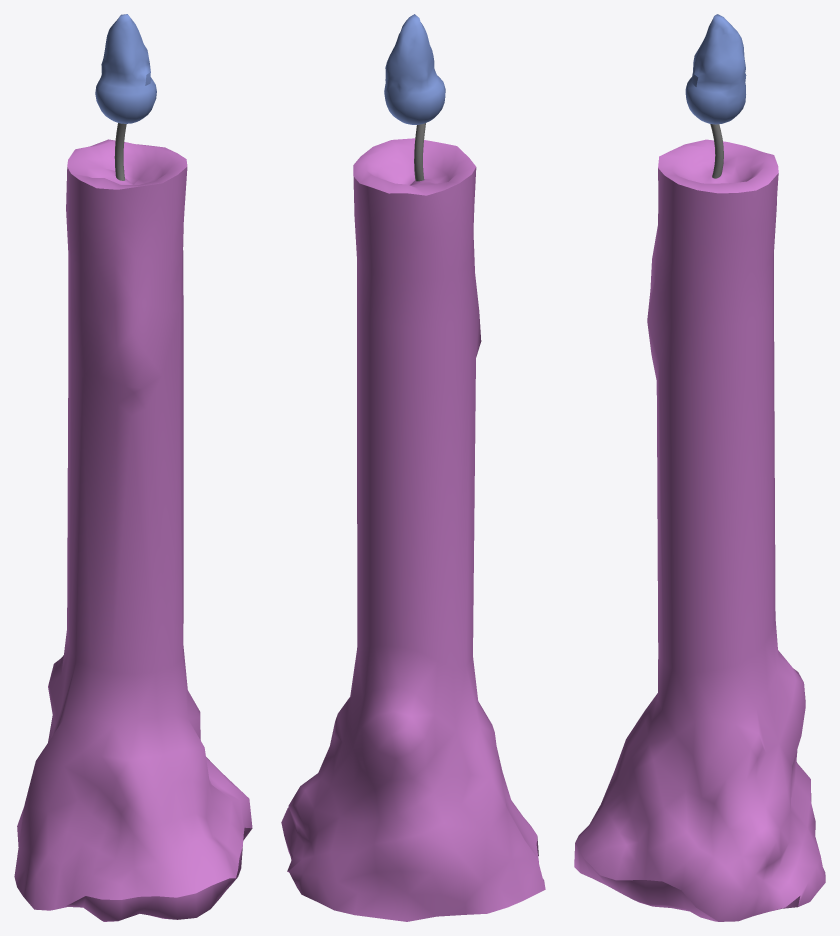
The model's file is bougie_menu.fbx.
The picture shows the model from 3 angles, left to right: view 1: azimuth 30°, elevation 25°; view 2: azimuth 150°, elevation 25°; view 3: azimuth 270°, elevation 25°; orthographic projection.
Parts seen in each view (by area): view 1: LDflamme; view 2: LDflamme; view 3: LDflamme.
Part boxes in pixels (x1,y1,x2,y2): LDflamme: (14,14,252,921); LDflamme: (281,14,545,921); LDflamme: (574,14,825,921).
Size of the model in its own units: 1.91 by 6.68 by 1.78.
